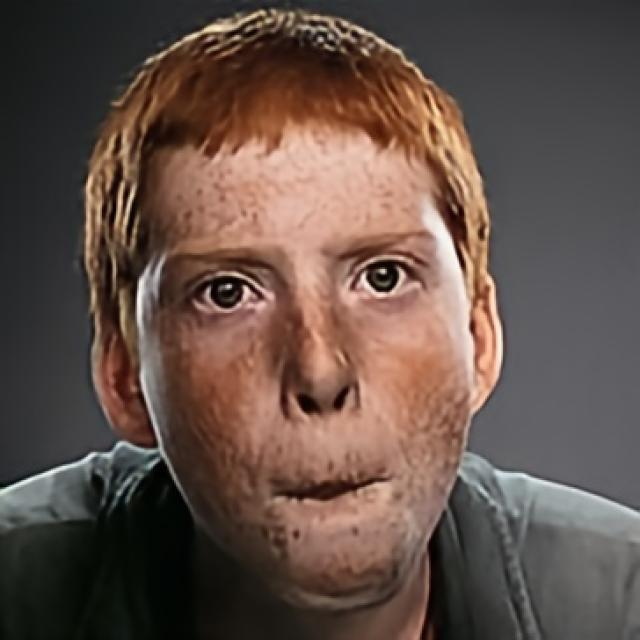surprise: (137, 100, 470, 612)
